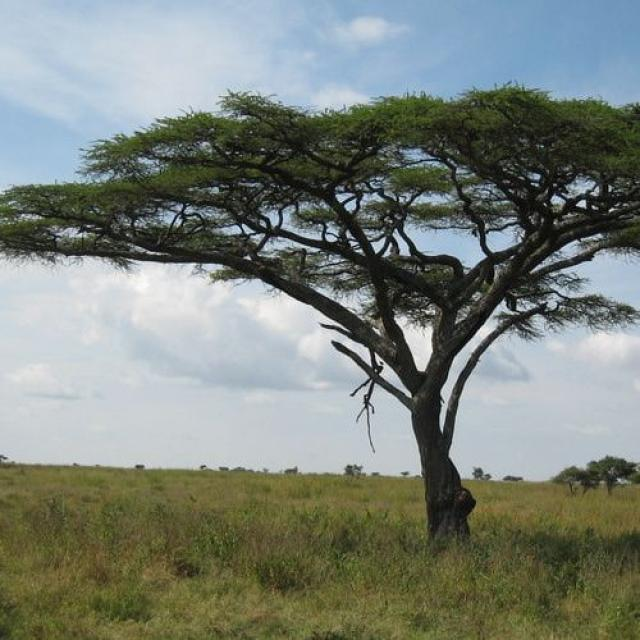Acacia: (138, 94, 626, 534)
